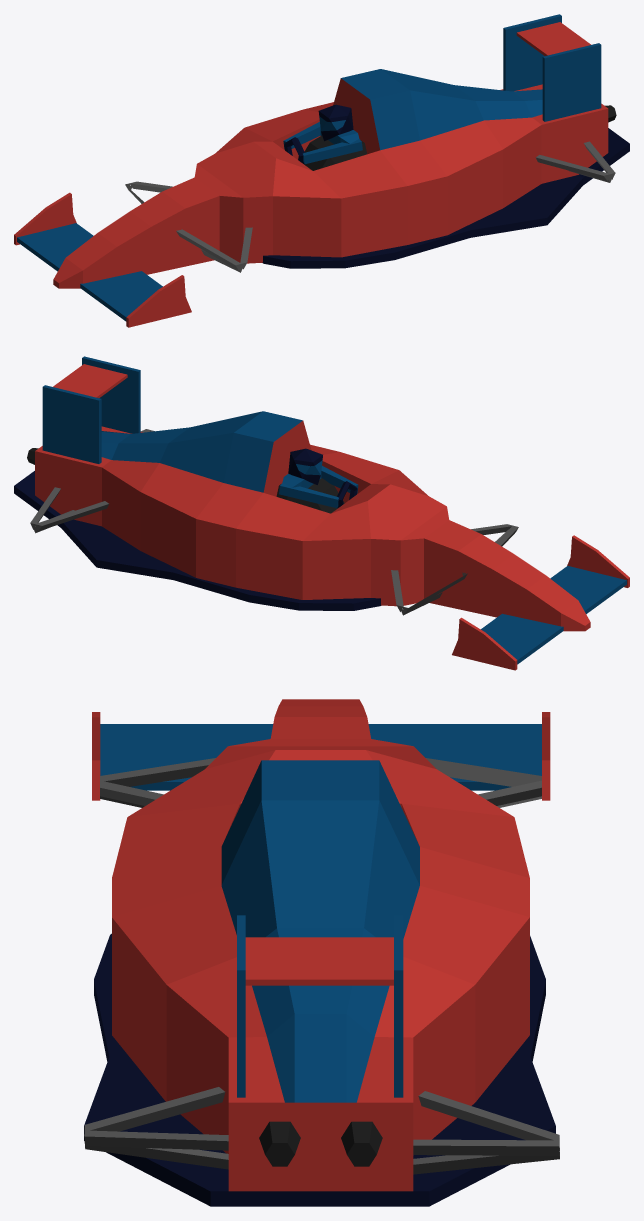
File: car.glb
The picture shows the model from 3 angles, top to bottom: view 1: azimuth 30°, elevation 25°; view 2: azimuth 150°, elevation 25°; view 3: azimuth 270°, elevation 25°; orthographic projection. The views are drawn at different scales.
Parts seen in each view (by area): view 1: Car, Wheel; view 2: Car, Wheel; view 3: Car.
Boxes of the visible parts, box(x1,y1,x2,y2) form: Car: box(14, 14, 629, 327); Wheel: box(304, 135, 366, 170); Car: box(14, 356, 629, 670); Wheel: box(276, 478, 344, 513); Car: box(84, 699, 559, 1206).
Size of the model in its own units: 4.35 by 1.03 by 1.64.
